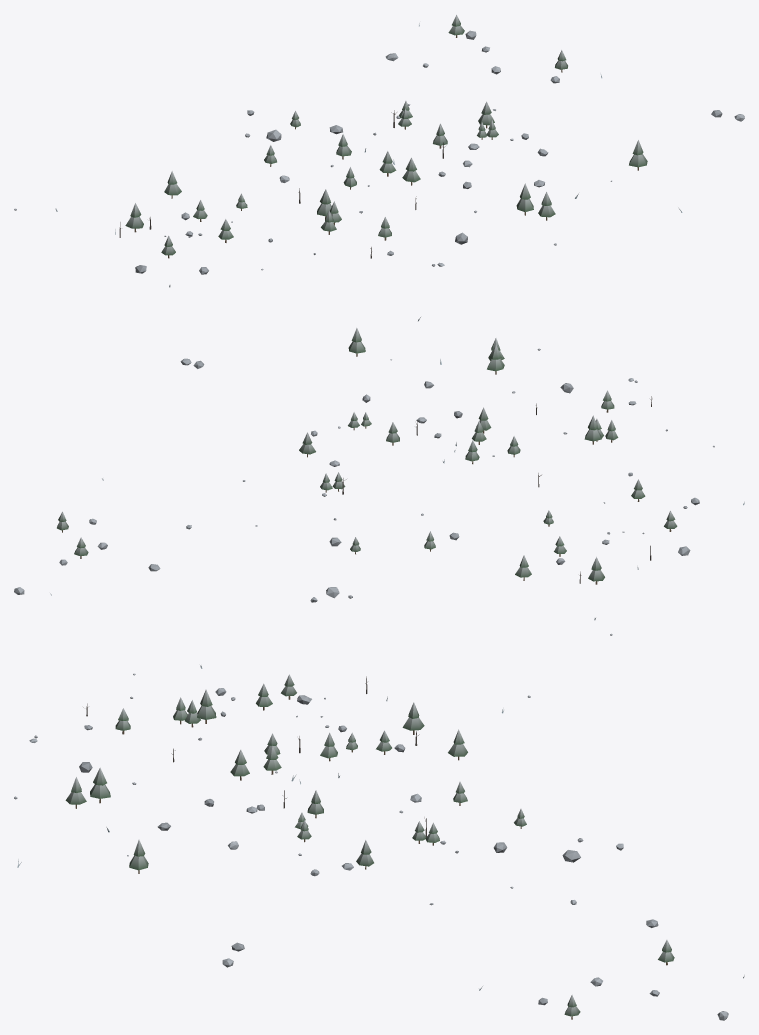
Rendered from frost_land_scatter_c19_11_lod1.glb.
3 views of the same model, one above another, from view 1: azimuth 30°, elevation 25°; view 2: azimuth 150°, elevation 25°; view 3: azimuth 270°, elevation 25° (orthographic). The views are drawn at different scales.
Parts seen in each view (by area): view 1: frost_land_scatter_c19_11_lod1; view 2: frost_land_scatter_c19_11_lod1; view 3: frost_land_scatter_c19_11_lod1.
Boxes of the visible parts, left/top/right/bottom form: frost_land_scatter_c19_11_lod1: left=14, top=15, right=744, bottom=287; frost_land_scatter_c19_11_lod1: left=14, top=317, right=744, bottom=635; frost_land_scatter_c19_11_lod1: left=14, top=665, right=744, bottom=1020.
Size of the model in its own units: 257 by 48.24 by 247.
